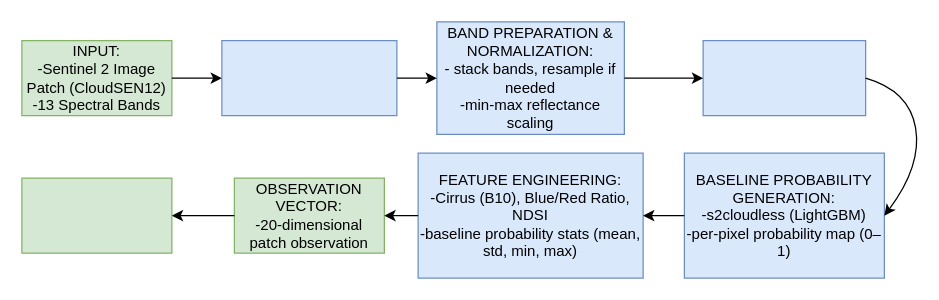
Image size: 939x300. Some labels were removed from this diagram. Each missing label, with the centre of its shape:
"DATA QUALITY CONTROL: -remove no-data pixels -filter unusalbe patches" goes at point 309,77.
"PATCH EXTRACTION: - 512 × 512 → 64 × 64 patches (local context)" goes at point 784,77.
"RL ENVIRONMENT: -Gymnasium → PPO / DQN training" goes at point 96,215.
